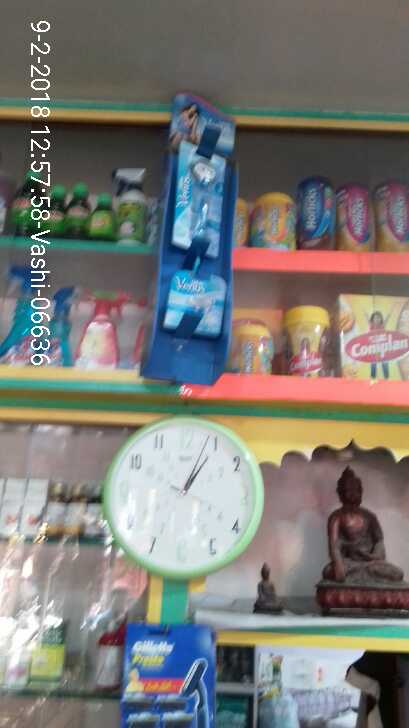venus: (170, 129, 230, 252), (161, 267, 238, 339)
